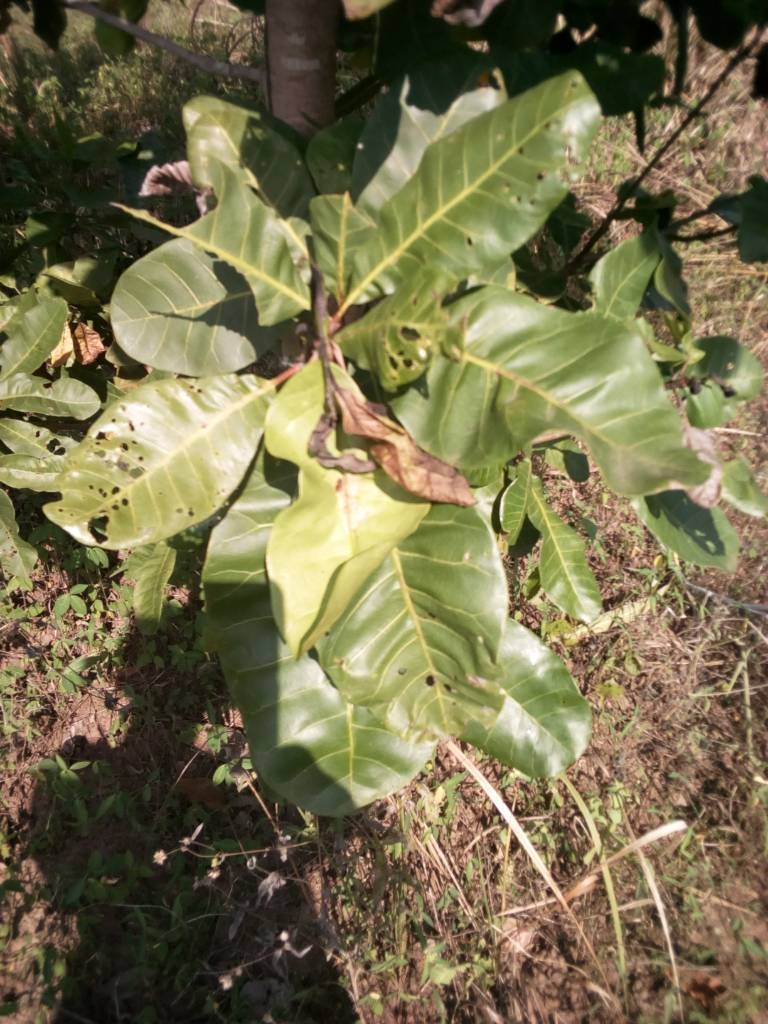Anoplonemis curvipes: (32, 380, 283, 569)
